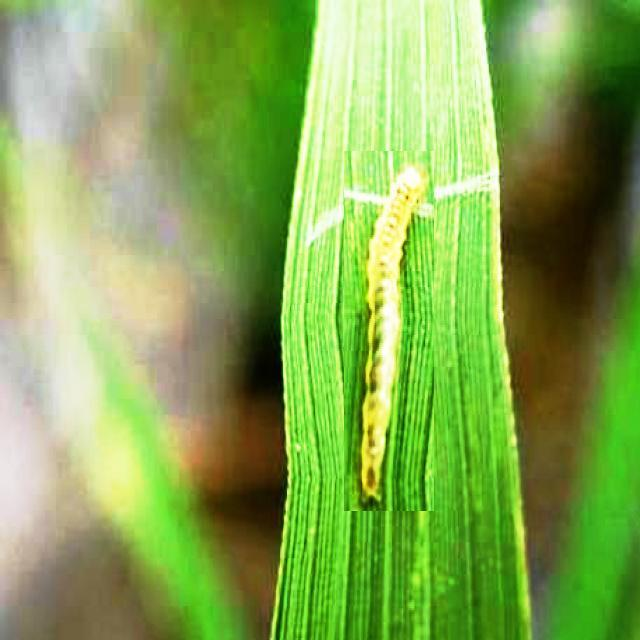leaf-folder: (345, 151, 435, 511)
